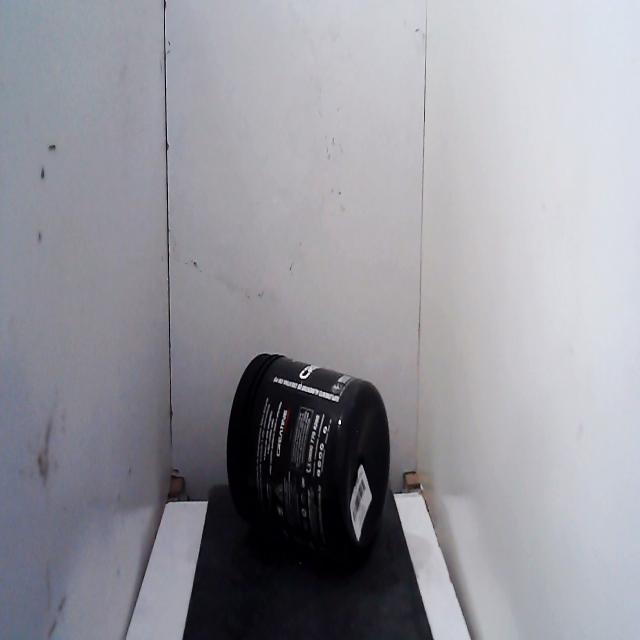plastico: (220, 332, 396, 585)
